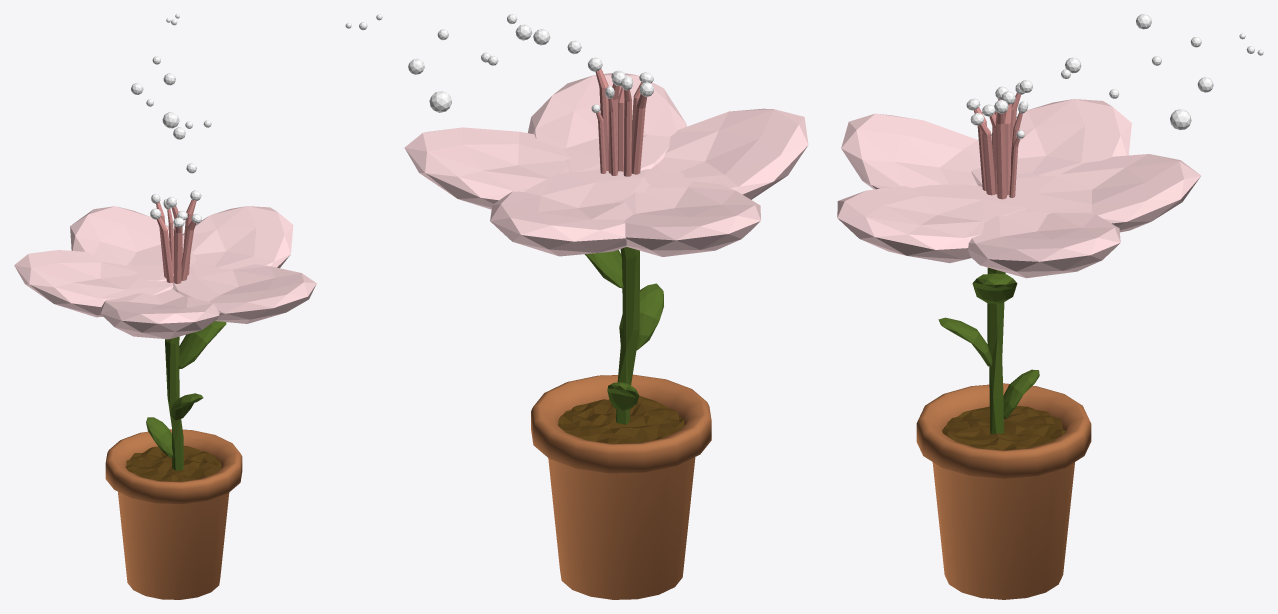
Rendered from low_poly_flower (2).glb.
3 renders of one model, left to right at view 1: azimuth 30°, elevation 25°; view 2: azimuth 150°, elevation 25°; view 3: azimuth 270°, elevation 25°, orthographic. The views are drawn at different scales.
Parts seen in each view (by area): view 1: Icosphere.002, Cylinder.009, Circle.001, Icosphere.023, Cylinder, Cylinder.005, Cylinder.001, Cylinder.002; view 2: Icosphere.002, Cylinder.009, Circle.001, Icosphere.023, Cylinder, Cylinder.005, Cylinder.004, Cylinder.007; view 3: Icosphere.002, Cylinder.009, Circle.001, Icosphere.023, Cylinder, Cylinder.007, Cylinder.001.
Part boxes in pixels (left/top/right/bottom): Icosphere.002: left=14, top=206, right=316, bottom=339; Cylinder.009: left=105, top=429, right=242, bottom=599; Circle.001: left=125, top=446, right=221, bottom=481; Icosphere.023: left=146, top=321, right=226, bottom=457; Cylinder: left=165, top=336, right=183, bottom=470; Cylinder.005: left=157, top=217, right=173, bottom=283; Cylinder.001: left=181, top=220, right=196, bottom=280; Cylinder.002: left=173, top=226, right=181, bottom=283; Icosphere.002: left=404, top=73, right=808, bottom=256; Cylinder.009: left=531, top=374, right=711, bottom=599; Circle.001: left=558, top=396, right=684, bottom=443; Icosphere.023: left=585, top=250, right=663, bottom=410; Cylinder: left=616, top=247, right=639, bottom=424; Cylinder.005: left=631, top=94, right=646, bottom=174; Cylinder.004: left=623, top=89, right=631, bottom=176; Cylinder.007: left=595, top=68, right=608, bottom=170; Icosphere.002: left=837, top=99, right=1201, bottom=278; Cylinder.009: left=916, top=383, right=1091, bottom=599; Circle.001: left=942, top=406, right=1065, bottom=450; Icosphere.023: left=938, top=273, right=1039, bottom=418; Cylinder: left=987, top=267, right=1005, bottom=434; Cylinder.007: left=995, top=112, right=1006, bottom=199; Cylinder.001: left=978, top=122, right=995, bottom=195.
Size of the model in its own units: 3.66 by 6.38 by 4.13.
